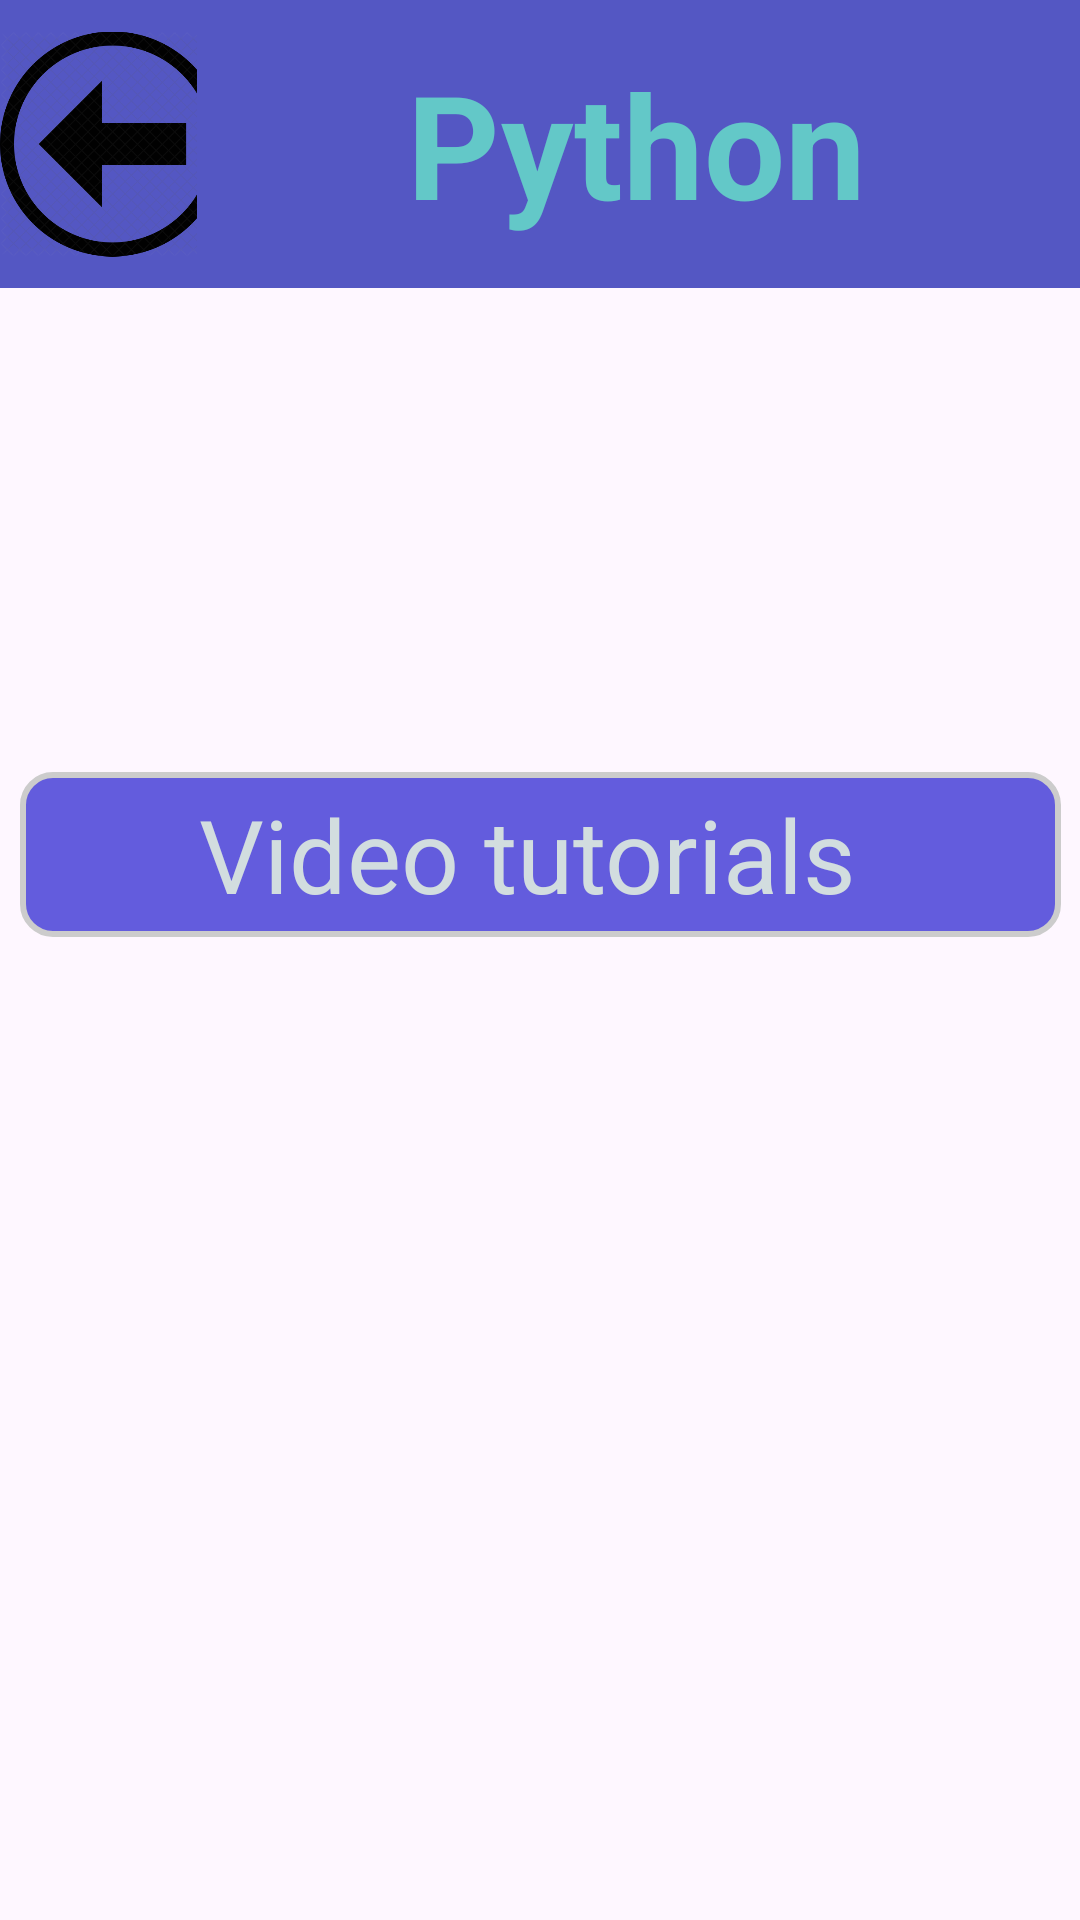

Icon click points for this 1080px×1920px phone screenshot, format (x=x, y=y):
back: (x=98, y=144)
